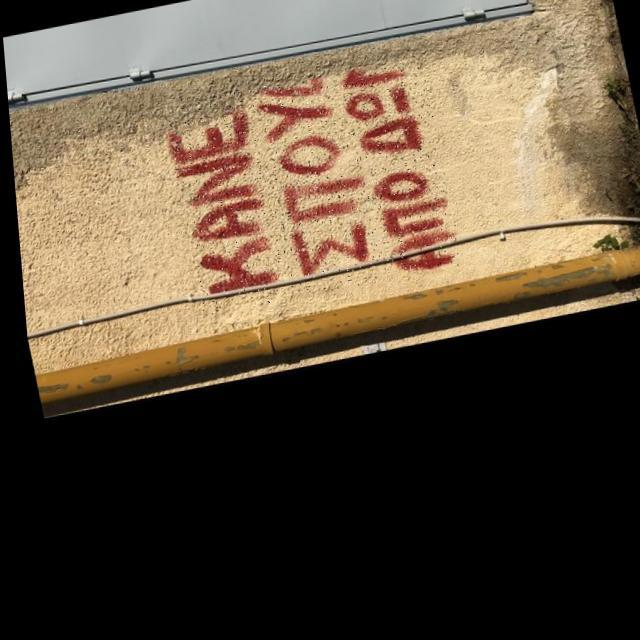-: (156, 59, 460, 320)
